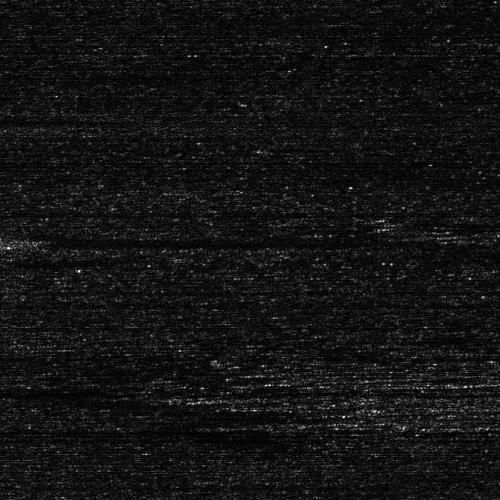object: (0, 233, 71, 250)
shadow: (0, 233, 327, 250), (0, 116, 85, 123), (0, 164, 43, 167)
